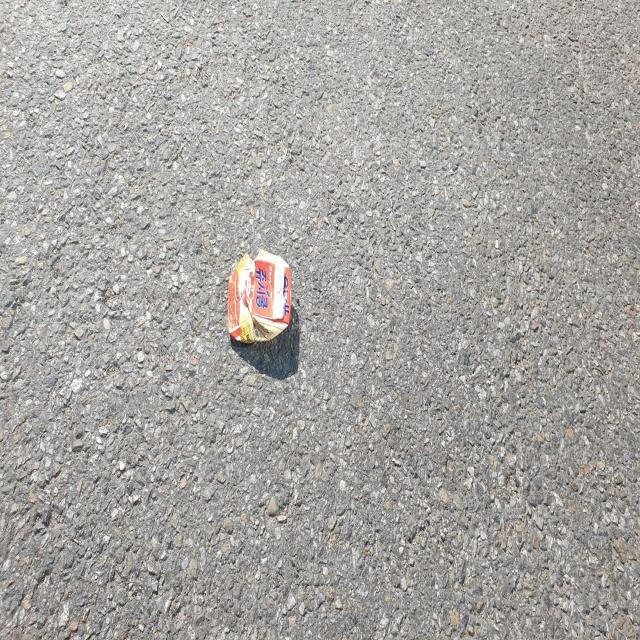paperpack: (227, 248, 292, 342)
